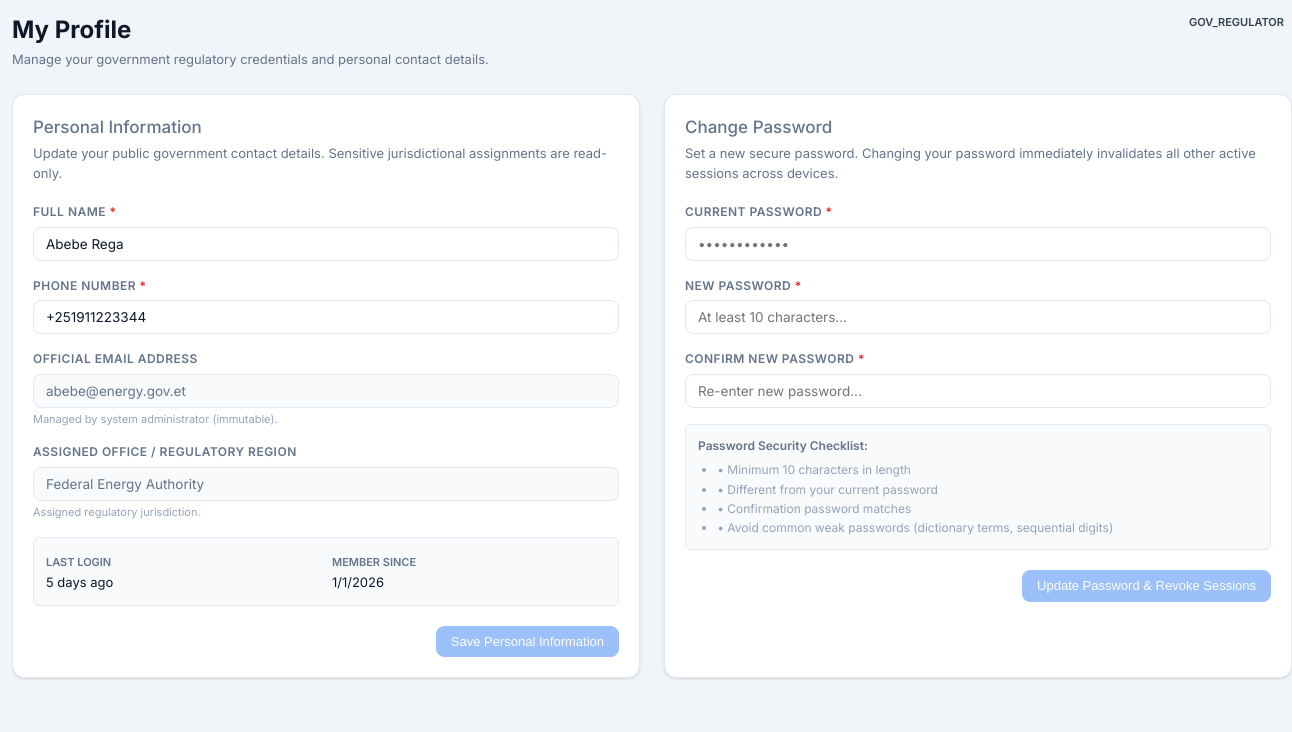
Test: Profile component › validates client-side that confirm password matches new password
Check: the field showing "Abebe Rega" below "Full Name" is shown, box [33,227,619,261]
Type "CurrentPass123!" into the password field with placeholder "••••••••••••".
click(978, 244); type("CurrentPass123!")  # box [685,227,1271,261]
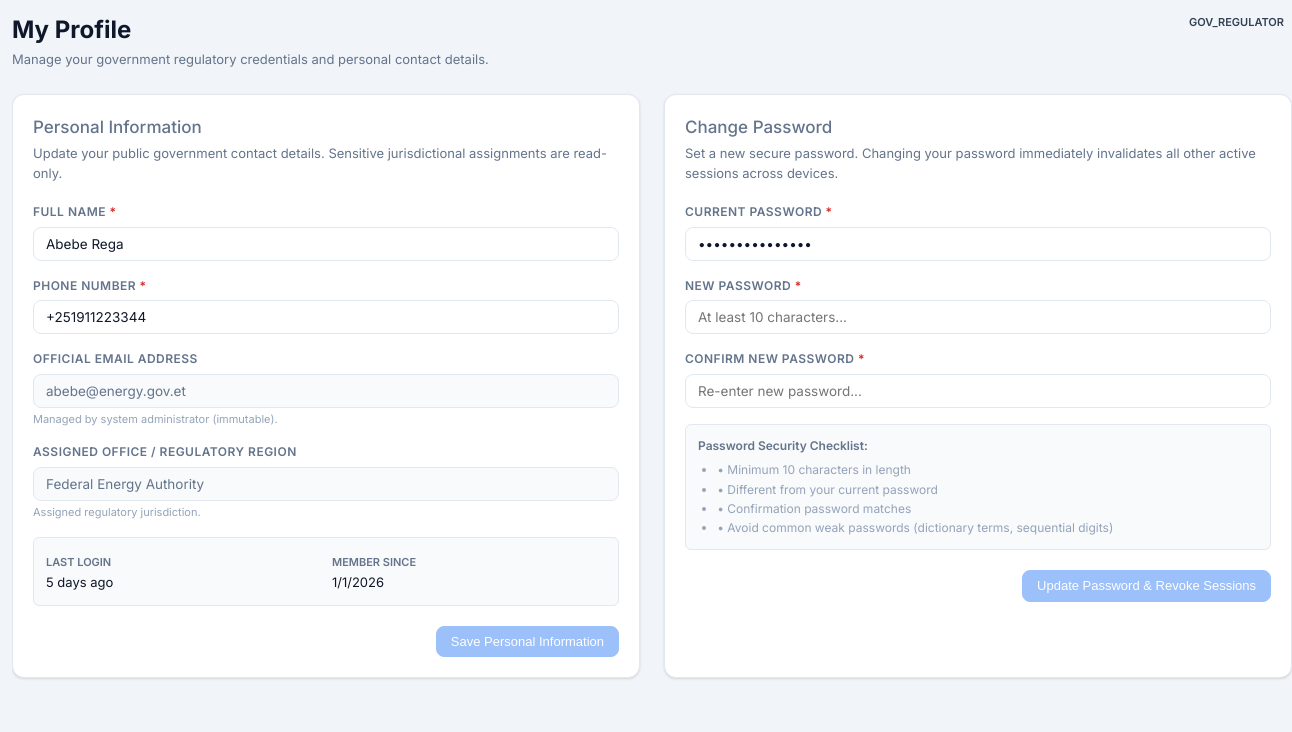
Type "BrandNewPassword456!" into the password field with placeholder "At least 10 characters...".
click(978, 317); type("BrandNewPassword456!")  # box [685,300,1271,334]
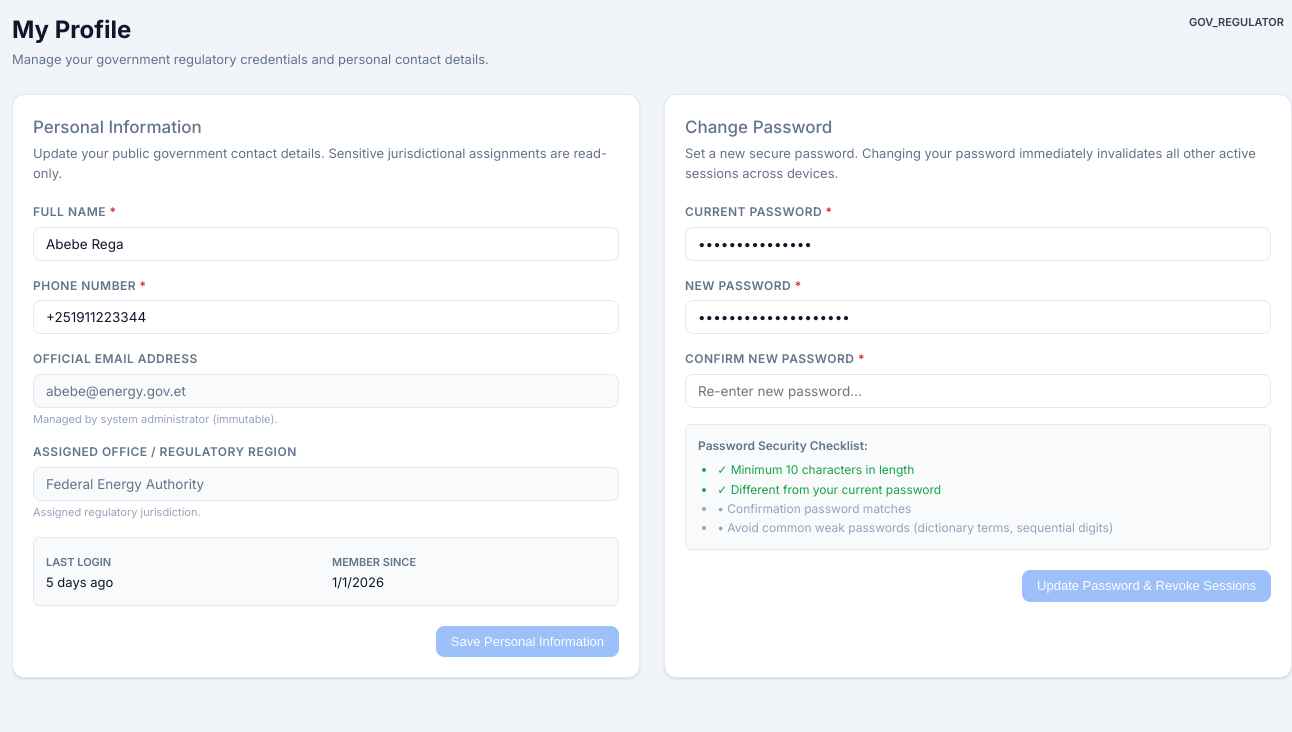
Type "MismatchPassword789!" into the password field with placeholder "Re-enter new password...".
click(978, 391); type("MismatchPassword789!")  # box [685,374,1271,408]
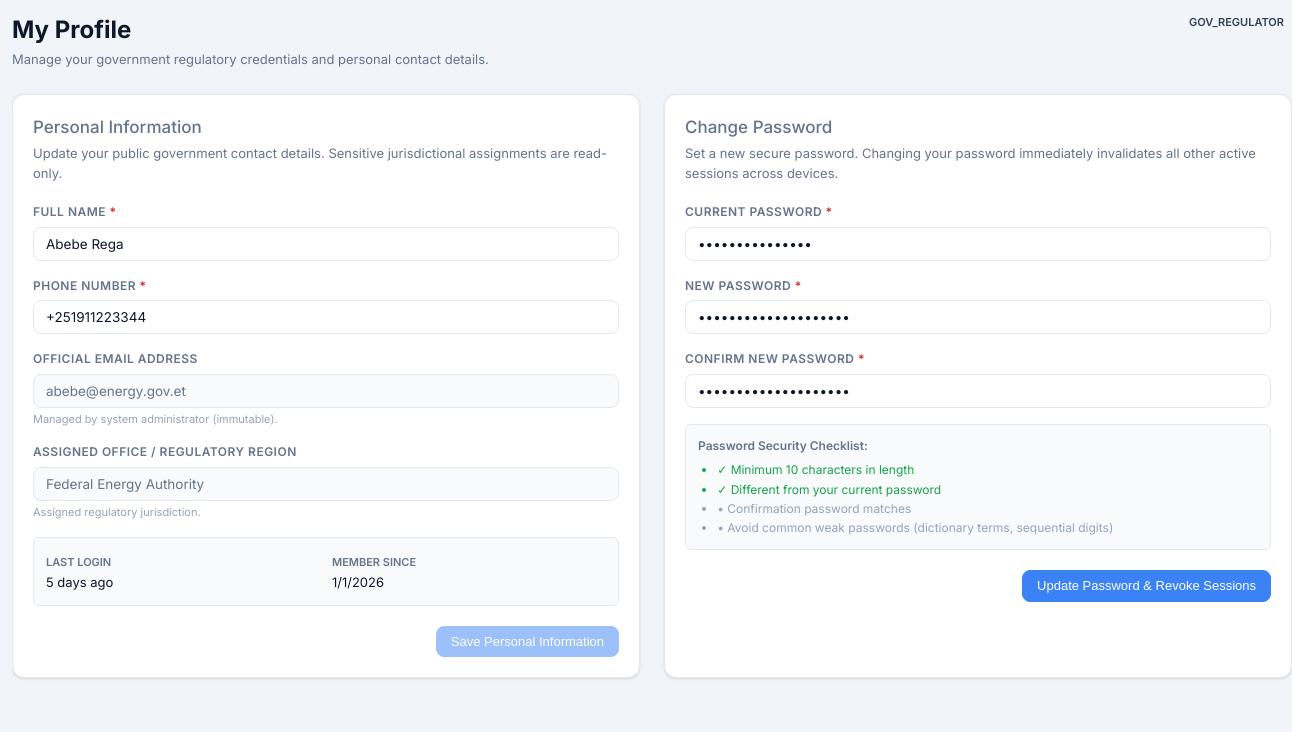
Click the button "Update Password & Revoke Sessions".
click(1146, 586)  # box [1022,570,1271,602]
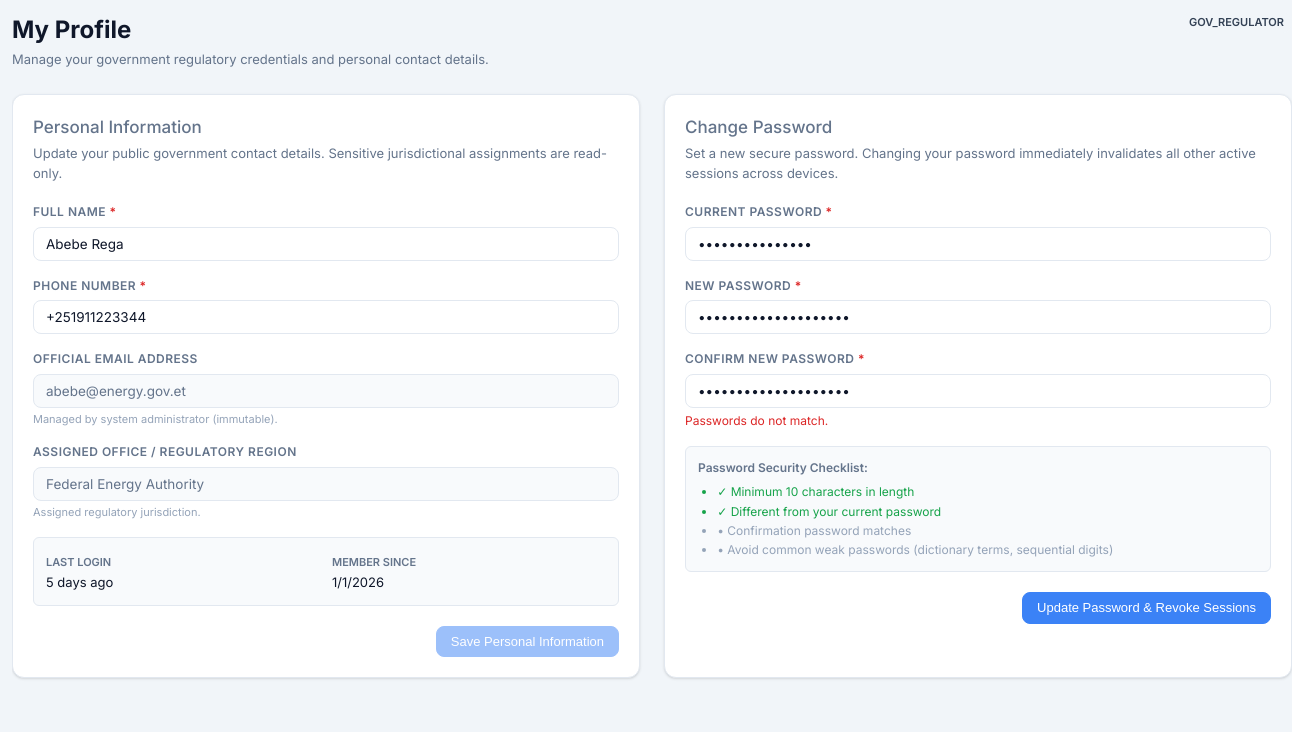
Check: the text "Passwords do not match." is shown, box [685,413,828,428]
